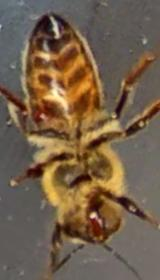varroa_mite: (22, 100, 62, 128)
